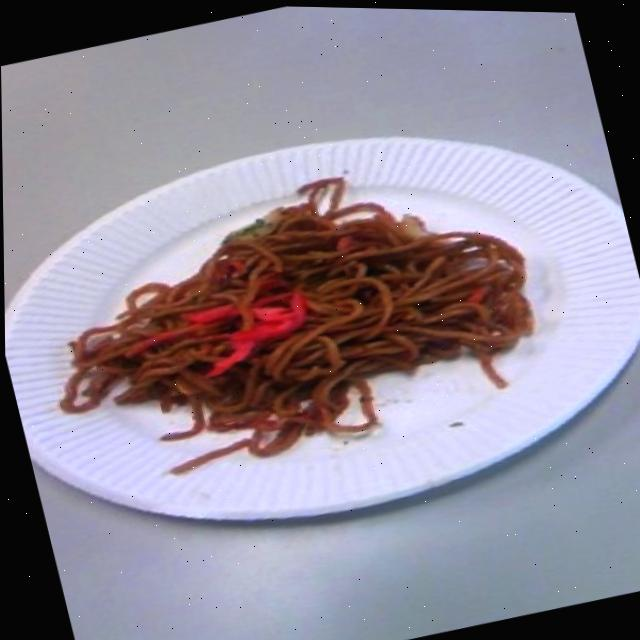面条主食: (1, 68, 640, 583)
